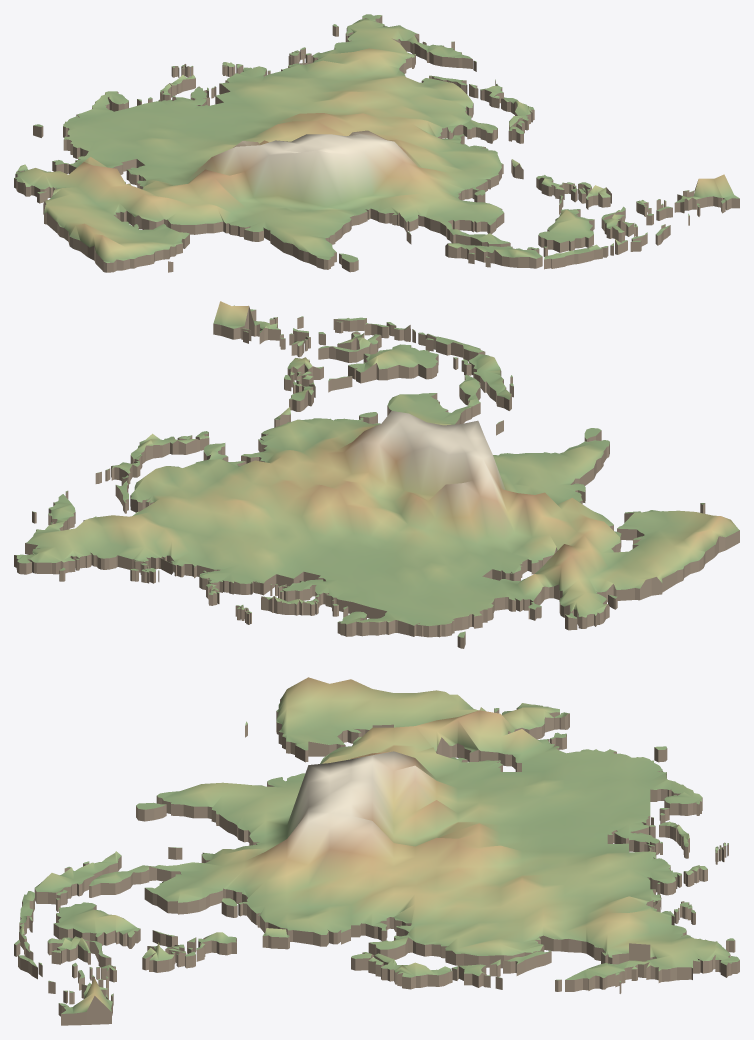
The model's file is asia-terrain.glb.
3 views of the same model, one above another, from view 1: azimuth 30°, elevation 25°; view 2: azimuth 150°, elevation 25°; view 3: azimuth 270°, elevation 25° (orthographic). The views are drawn at different scales.
Visible parts, largest first — view 1: asia: norte em -Z, leste em +X, elevação em +Y; view 2: asia: norte em -Z, leste em +X, elevação em +Y; view 3: asia: norte em -Z, leste em +X, elevação em +Y.
Part boxes in pixels (left/top/right/bottom): asia: norte em -Z, leste em +X, elevação em +Y: left=14, top=14, right=739, bottom=272; asia: norte em -Z, leste em +X, elevação em +Y: left=14, top=301, right=739, bottom=648; asia: norte em -Z, leste em +X, elevação em +Y: left=14, top=677, right=739, bottom=1025.
Size of the model in its own units: 1.46 by 0.1554 by 1.4.
